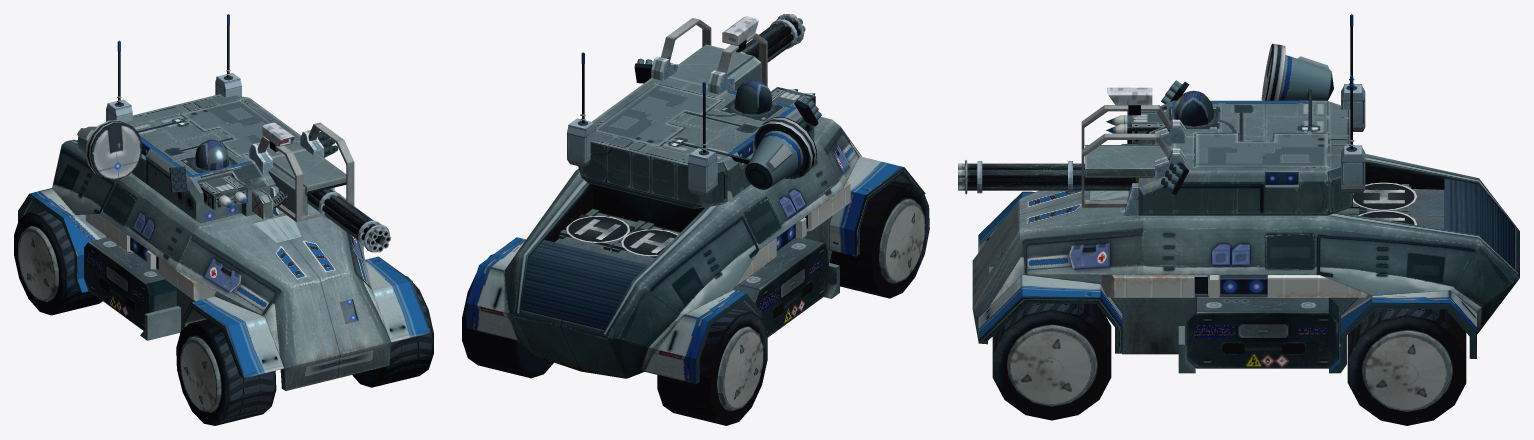
File: blue_tank_02.FBX
3 views of the same model, side by side, from view 1: azimuth 30°, elevation 25°; view 2: azimuth 150°, elevation 25°; view 3: azimuth 270°, elevation 25° (orthographic). The views are drawn at different scales.
Visible parts, largest first — view 1: Body, gun_body, Wheel001, gun001; view 2: Body, gun_body, Wheel001, gun001; view 3: Body, gun_body, Wheel001, gun001.
Part boxes in pixels (x1,y1,x2,y2): Body: (18, 139, 431, 390); gun_body: (77, 14, 337, 222); Wheel001: (14, 209, 433, 425); gun001: (257, 122, 391, 252); Body: (466, 117, 925, 384); gun_body: (567, 52, 821, 208); Wheel001: (462, 180, 929, 425); gun001: (661, 14, 805, 90); Body: (972, 153, 1519, 373); gun_body: (1106, 14, 1365, 215); Wheel001: (992, 303, 1466, 425); gun001: (958, 87, 1172, 207).
Bounding box in the file's own units: 29.93 × 32.77 × 52.73.
1 material, 1 textured.
